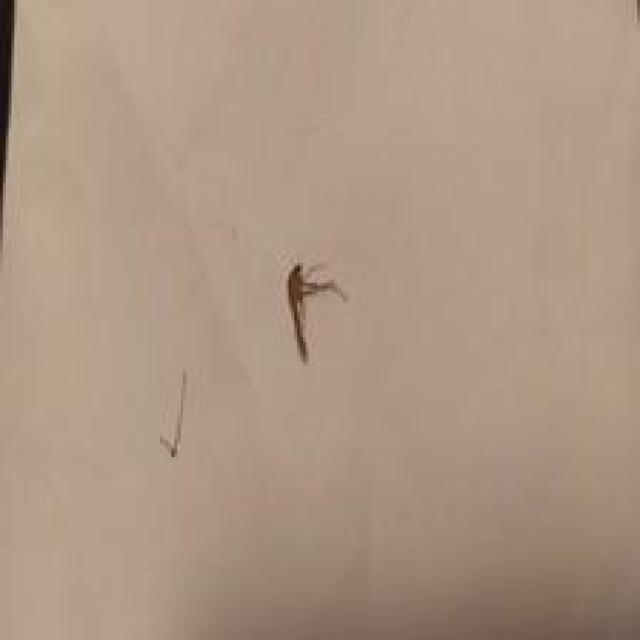Culex: (284, 260, 347, 363)
